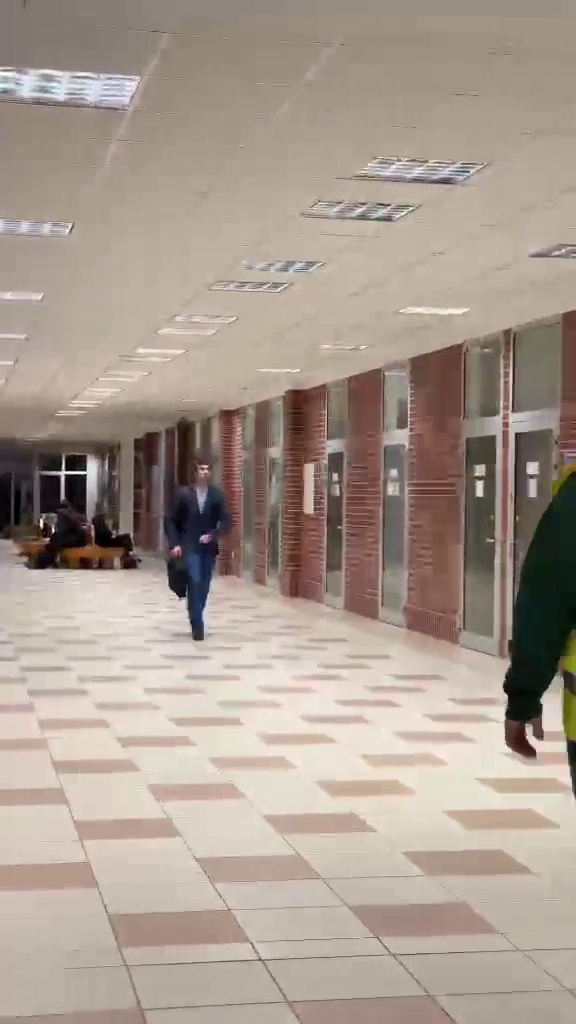no vest: (160, 457, 239, 640)
